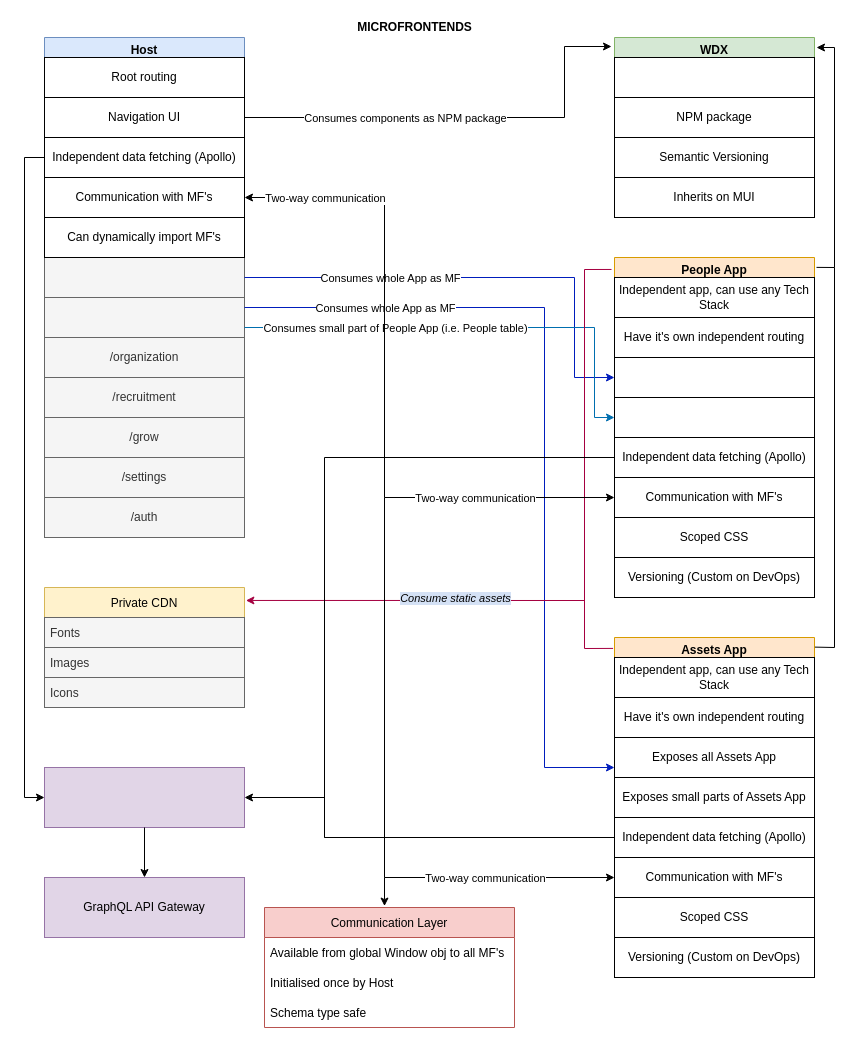
Image size: 860x1045. Some labels were removed from this diagram. Each missing label, with the centre of its shape:
"/assets" belongs at point (144, 317).
"/people" belongs at point (144, 277).
"Exposes all People App" belongs at point (714, 377).
"Exposes small parts of People App" belongs at point (714, 417).
"One shared Apollo Cache" belongs at point (144, 797).
"React components lib" belongs at point (714, 77).
